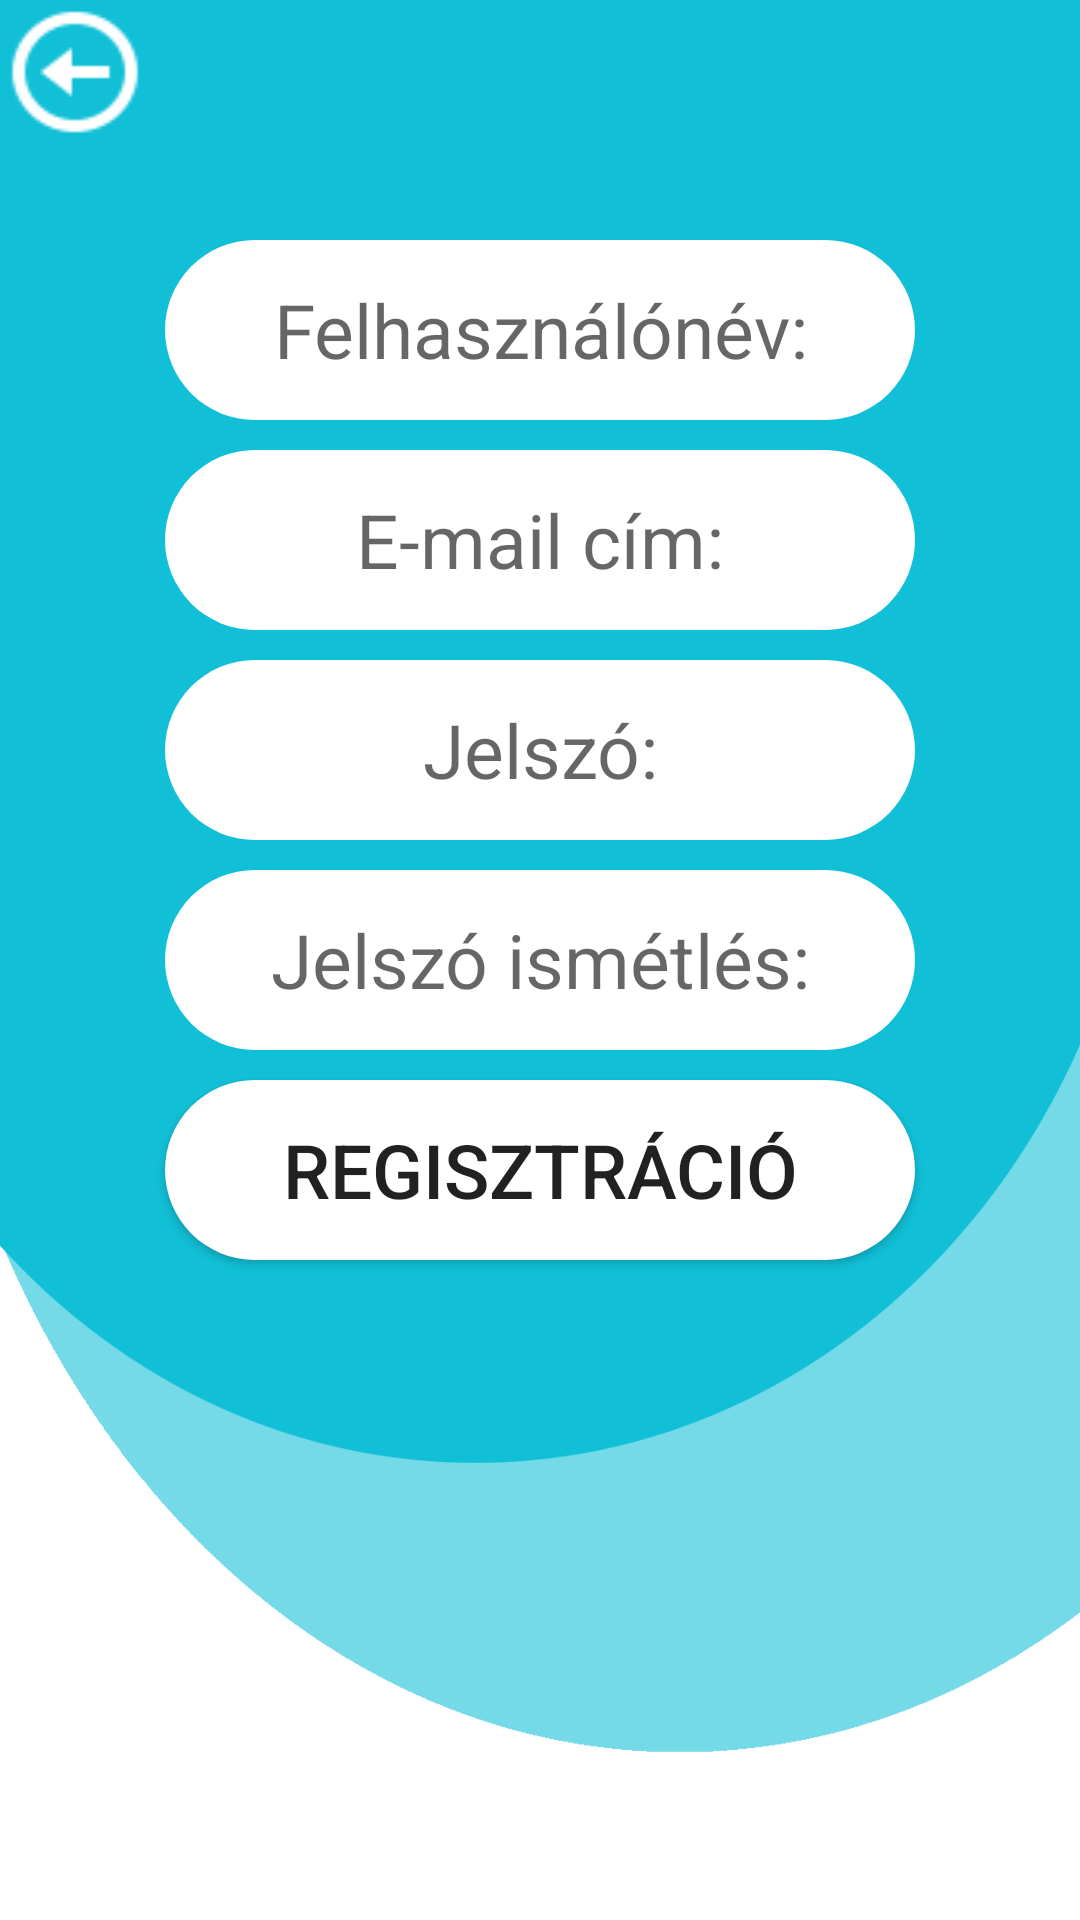

Icon click points for this 1080 × 1920 phone screenshot, format point (x, y):
back: point (75, 72)
